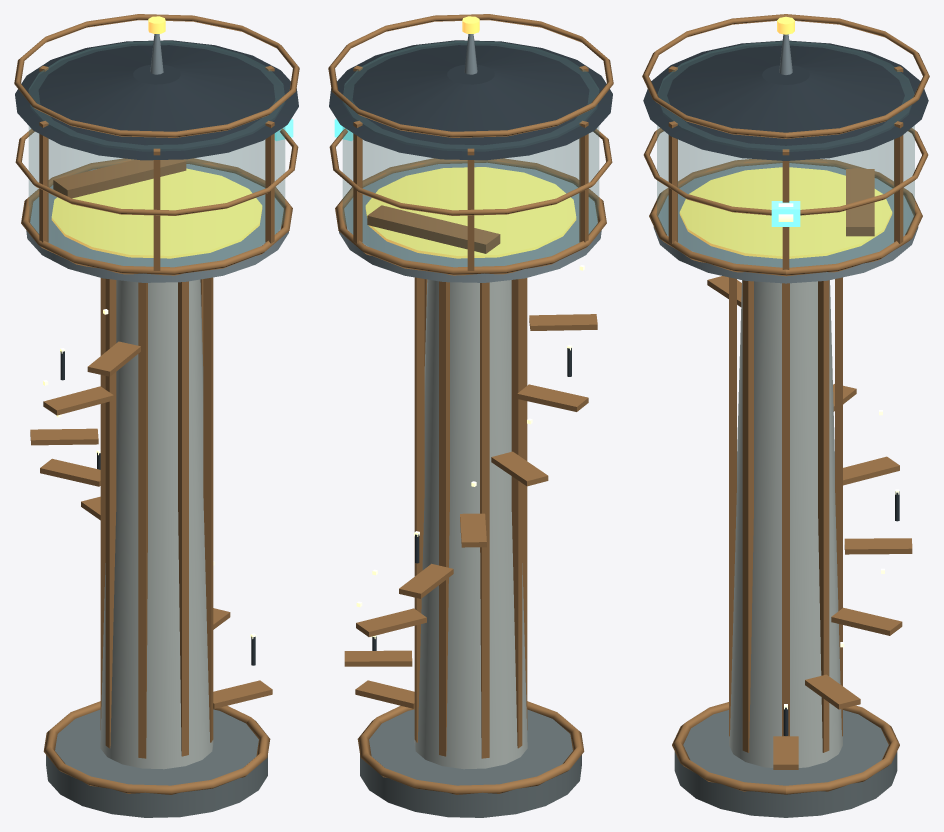
Rendered from sky-pod.lod2.glb.
3 views of the same model, side by side, from view 1: azimuth 30°, elevation 25°; view 2: azimuth 150°, elevation 25°; view 3: azimuth 270°, elevation 25° (orthographic).
Visible parts, largest first — view 1: structure, scanner; view 2: structure, scanner; view 3: structure, scanner.
Boxes of the visible parts, <box> form: structure: <box>14,14,299,817</box>; scanner: <box>15,118,298,215</box>; structure: <box>328,14,613,817</box>; scanner: <box>329,118,612,215</box>; structure: <box>642,14,929,817</box>; scanner: <box>643,128,928,226</box>.
Size of the model in its own units: 5.16 by 14.5 by 5.04.
